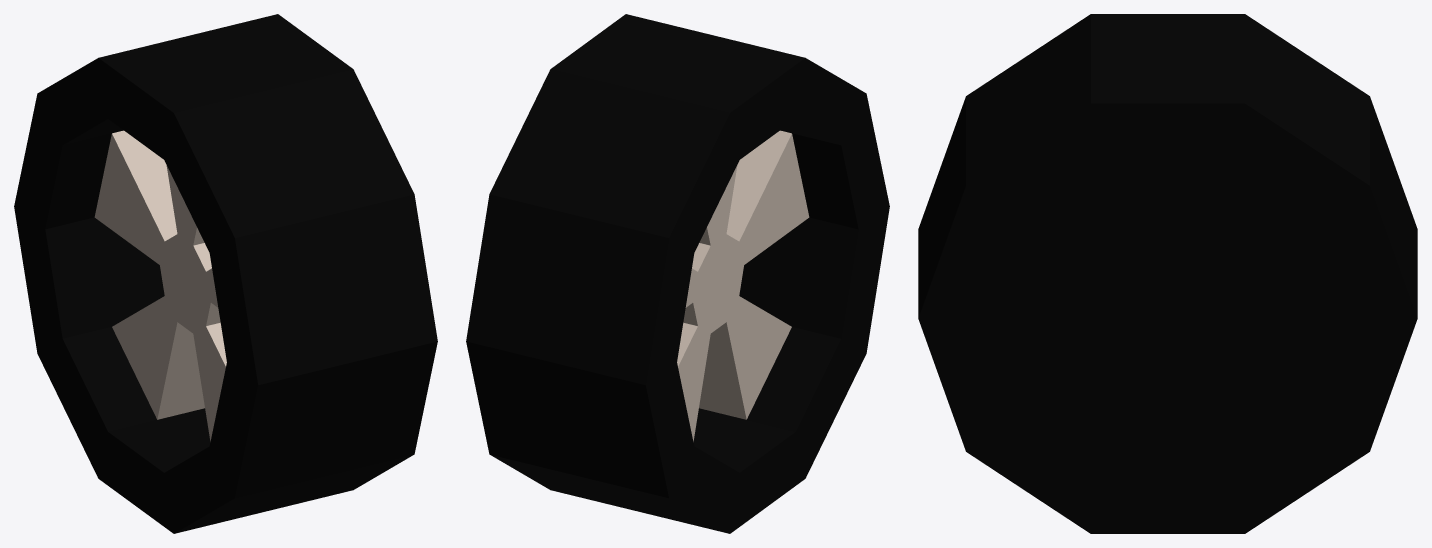
The model's file is Wheel R.fbx.
3 renders of one model, left to right at view 1: azimuth 30°, elevation 25°; view 2: azimuth 150°, elevation 25°; view 3: azimuth 270°, elevation 25°, orthographic. The views are drawn at different scales.
Visible parts, largest first — view 1: 1 Wheels FR; view 2: 1 Wheels FR; view 3: 1 Wheels FR.
Part boxes in pixels (<box>): 1 Wheels FR: <box>14,14,437,533</box>; 1 Wheels FR: <box>466,14,889,533</box>; 1 Wheels FR: <box>918,14,1417,533</box>.
Bounding box in the file's own units: 18.83 × 42.15 × 44.32.
1 material, 1 textured.
